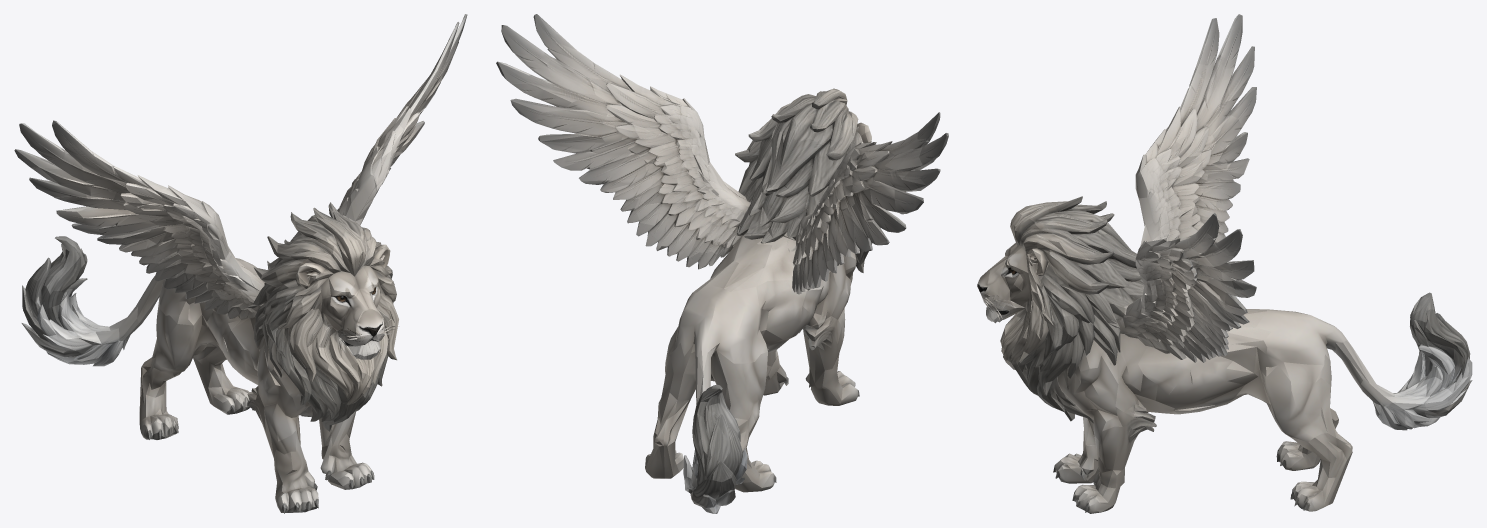
3 views of the same model, side by side, from view 1: azimuth 30°, elevation 25°; view 2: azimuth 150°, elevation 25°; view 3: azimuth 270°, elevation 25° (orthographic).
Bounding box in the file's own units: 1.9 × 1.53 × 1.83.
Materials: 1 (1 with a texture image).
